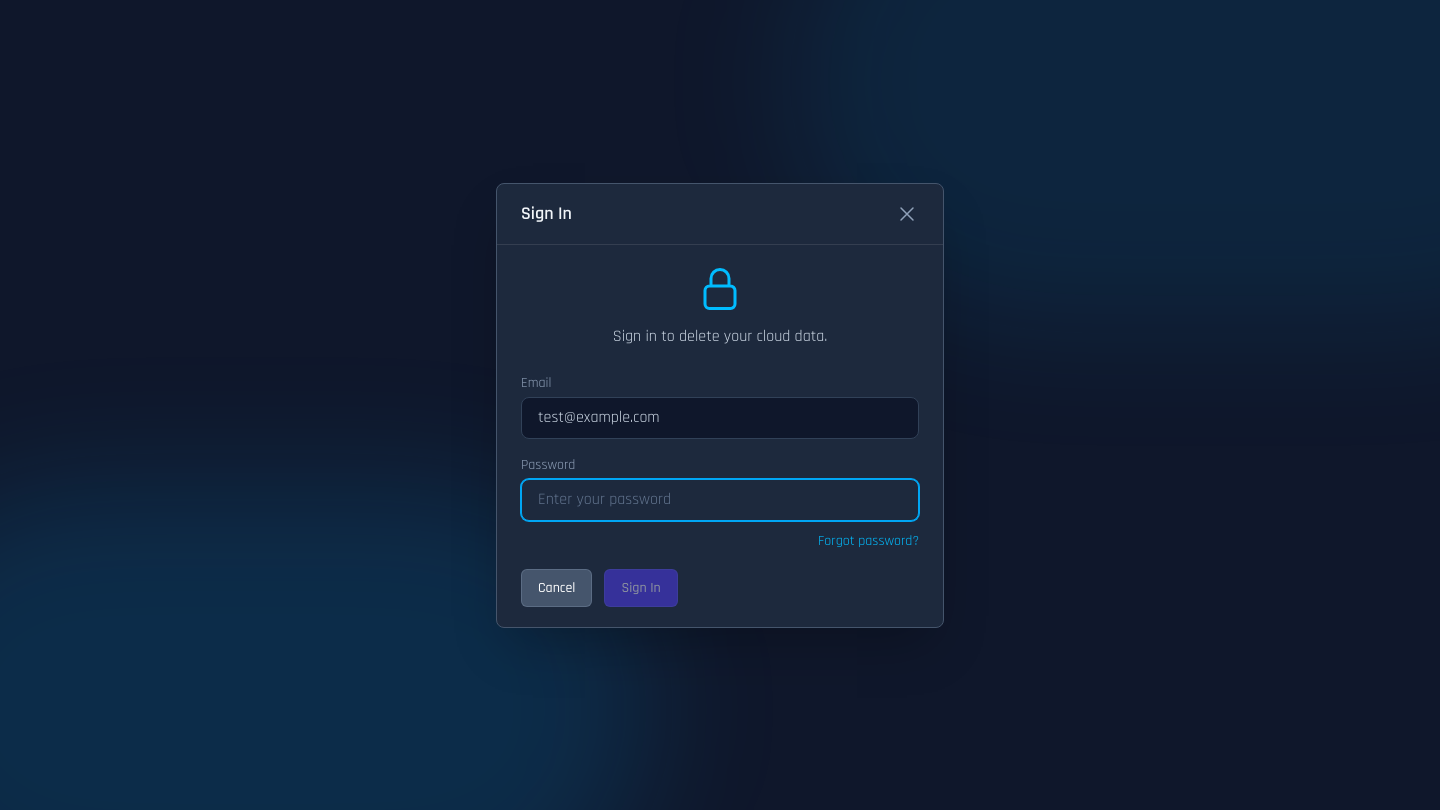
Scenario: CloudAuthModal › auth step › should show error message on sign in failure
The image size is (1440, 810).
Type "wrongpassword" into the password field with placeholder "Enter your password" at (720, 500), box [521,478,919,520]
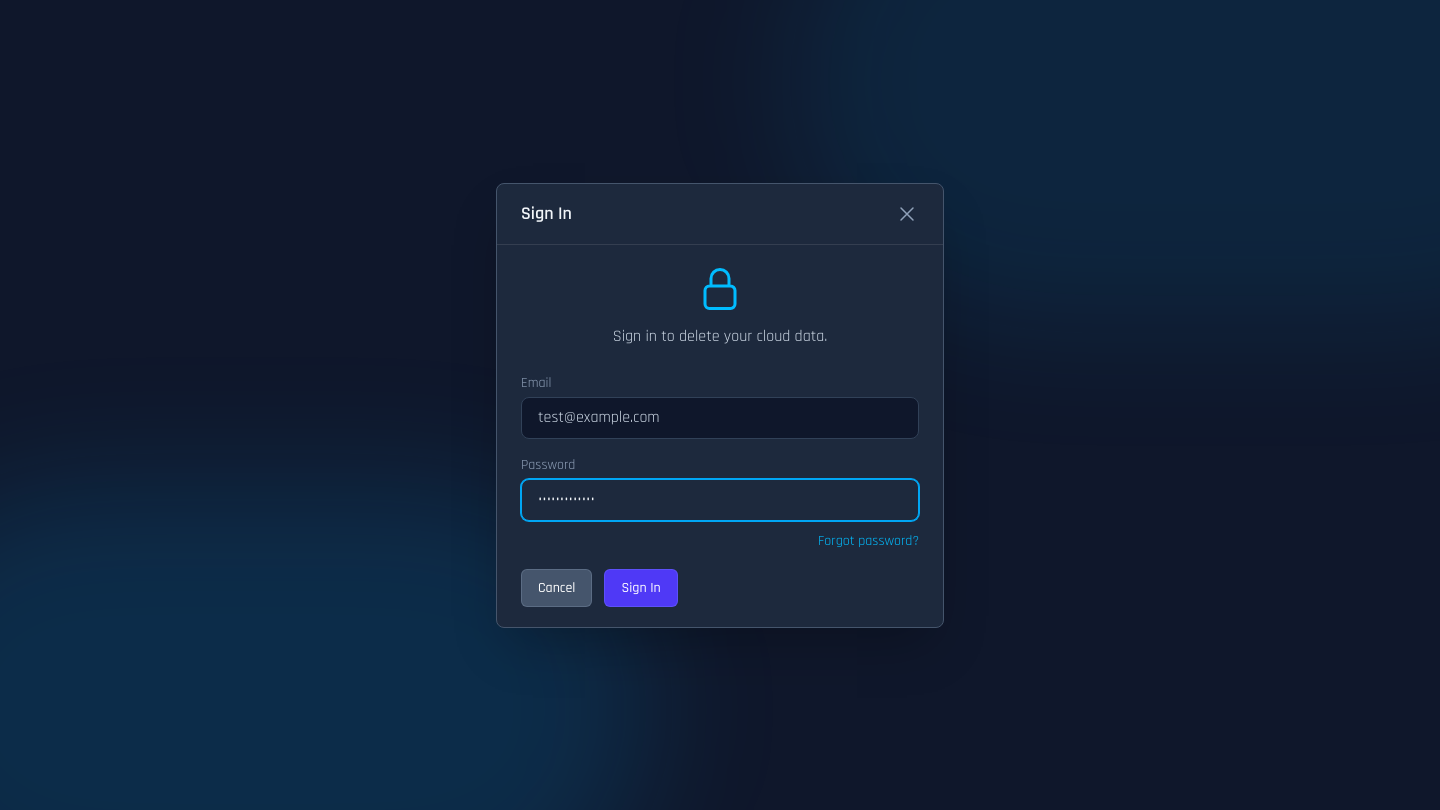
Click the button "Sign In" at (641, 588), box [604,568,678,606]
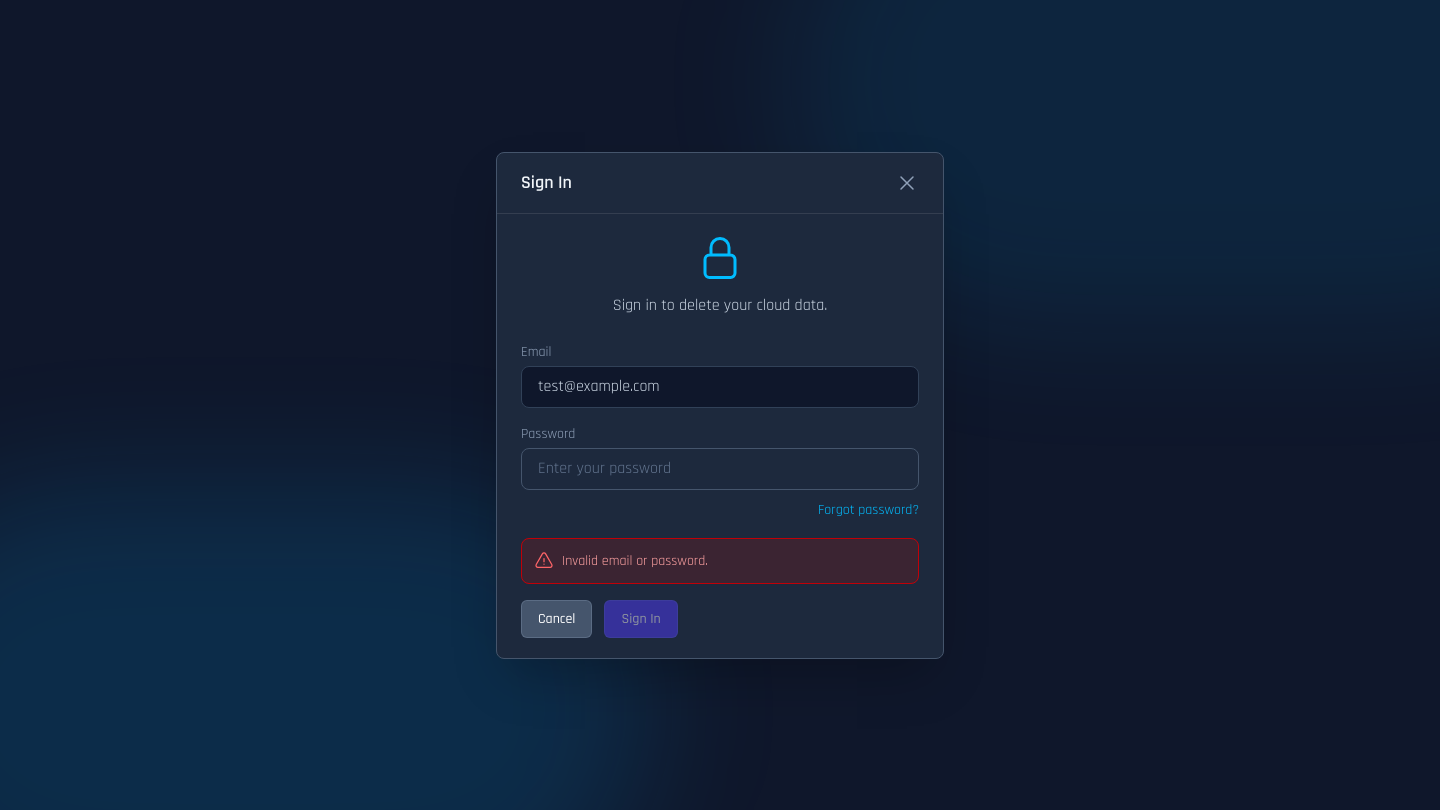
Now the text "Invalid email or password." is shown, box [562,550,708,570]
